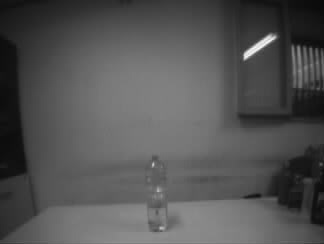Bottle: (143, 153, 170, 233)
